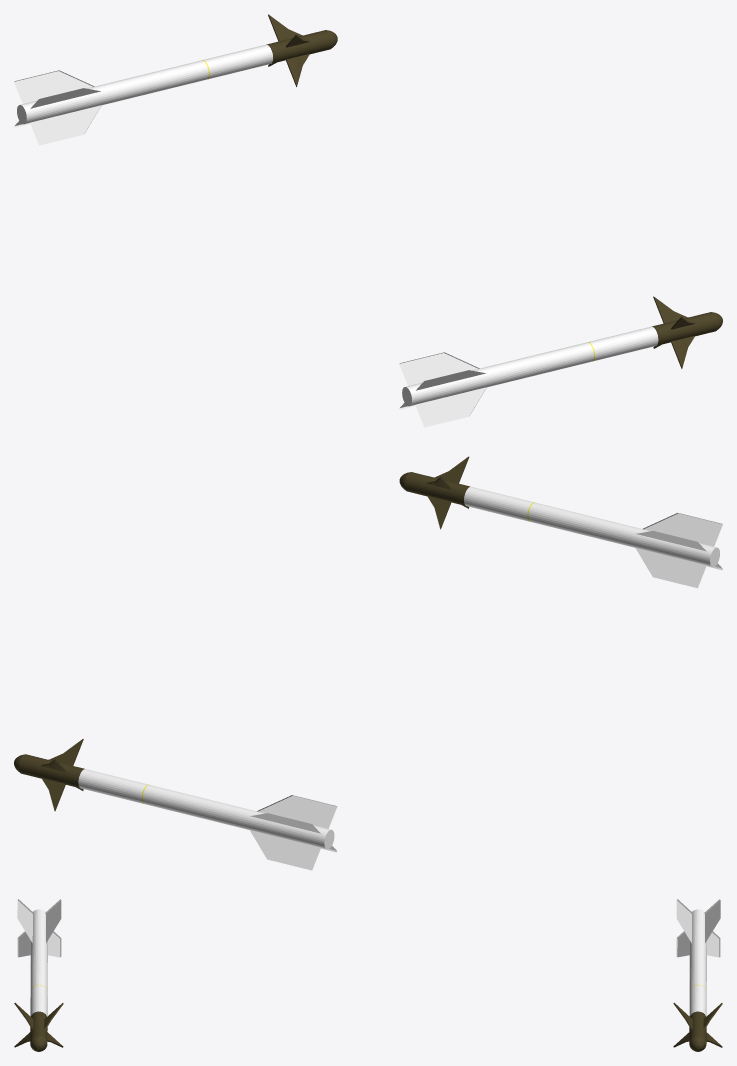
The model's file is f14baim914.glb.
3 renders of one model, top to bottom at view 1: azimuth 30°, elevation 25°; view 2: azimuth 150°, elevation 25°; view 3: azimuth 270°, elevation 25°, orthographic. The views are drawn at different scales.
Visible parts, largest first — view 1: 円柱.004, 円柱.001; view 2: 円柱.004, 円柱.001; view 3: 円柱.004, 円柱.001.
Boxes of the visible parts, left/top/right/bottom form: 円柱.004: left=14, top=14, right=337, bottom=145; 円柱.001: left=399, top=296, right=722, bottom=427; 円柱.004: left=14, top=739, right=337, bottom=870; 円柱.001: left=399, top=456, right=722, bottom=588; 円柱.004: left=673, top=899, right=722, bottom=1051; 円柱.001: left=14, top=899, right=63, bottom=1051.
Bounding box in the file's own units: 3.38 × 0.543 × 7.72.
Materials: 2 (2 with a texture image).
